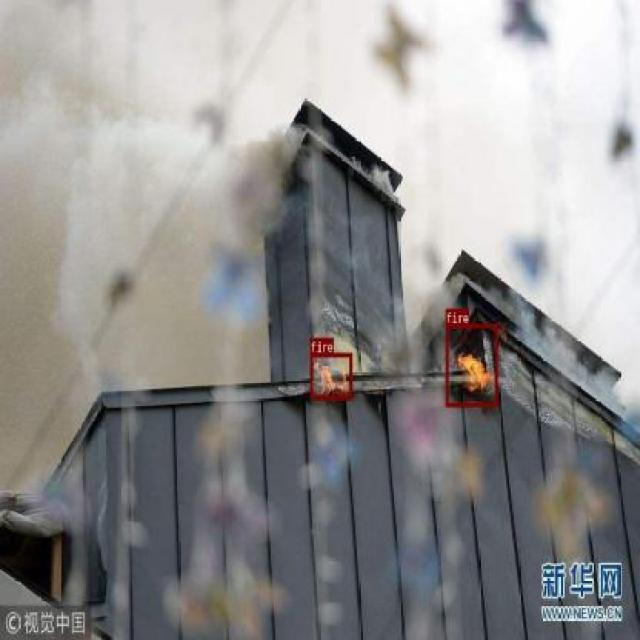fire: (445, 323, 498, 406), (310, 353, 352, 398)
